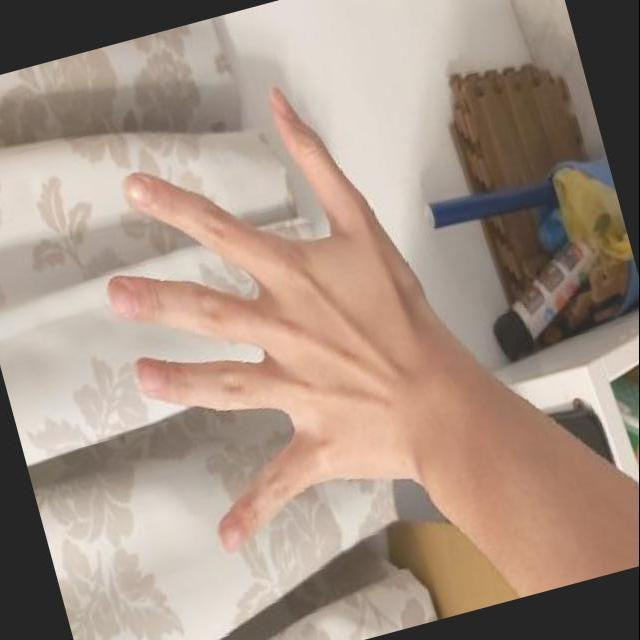hand: (51, 40, 500, 588)
